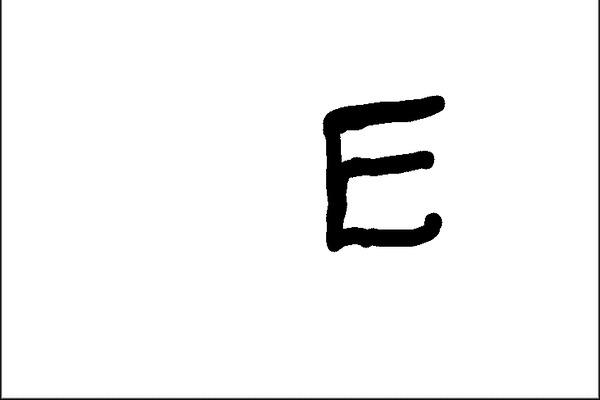E: (317, 93, 448, 255)
